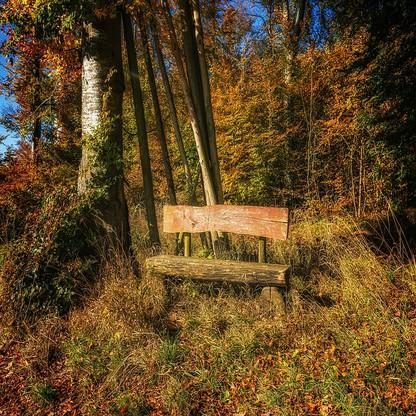obstacle: (138, 190, 305, 309)
